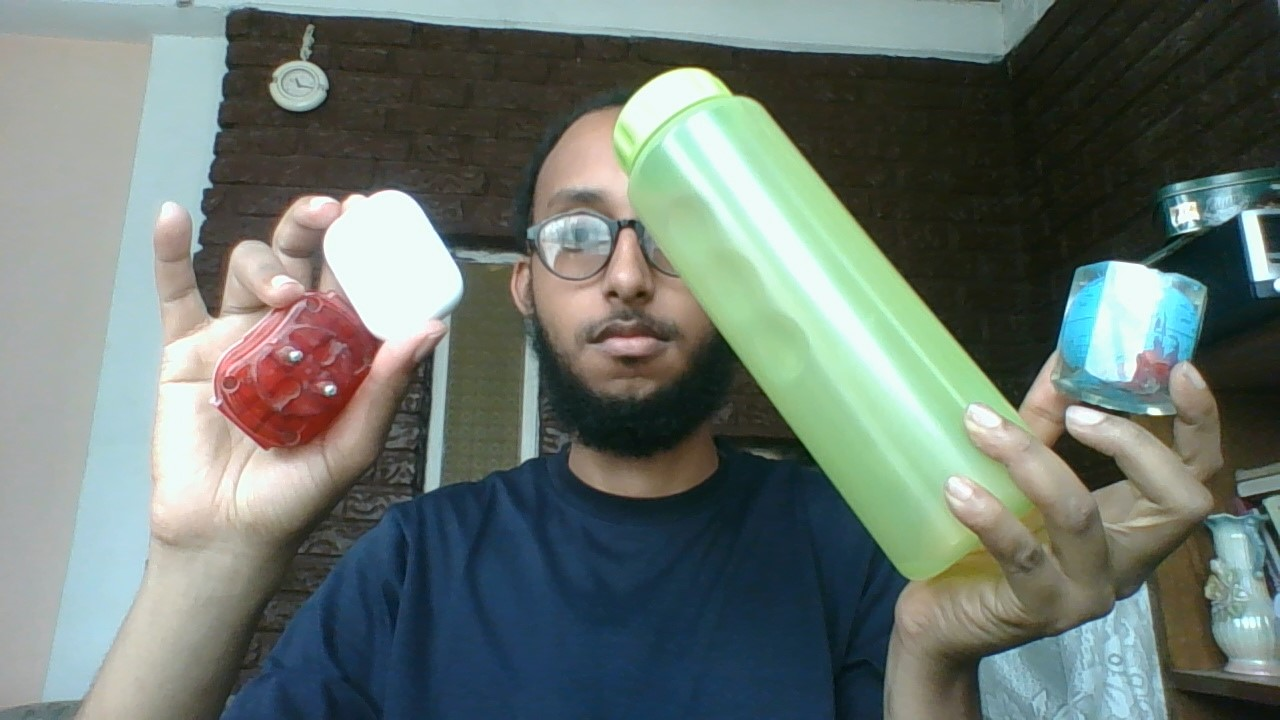Air_pod: (315, 184, 468, 351)
Multi_adapter: (210, 291, 386, 457)
Water_bottle: (610, 58, 1049, 589)
world_globe: (1055, 254, 1214, 419)
